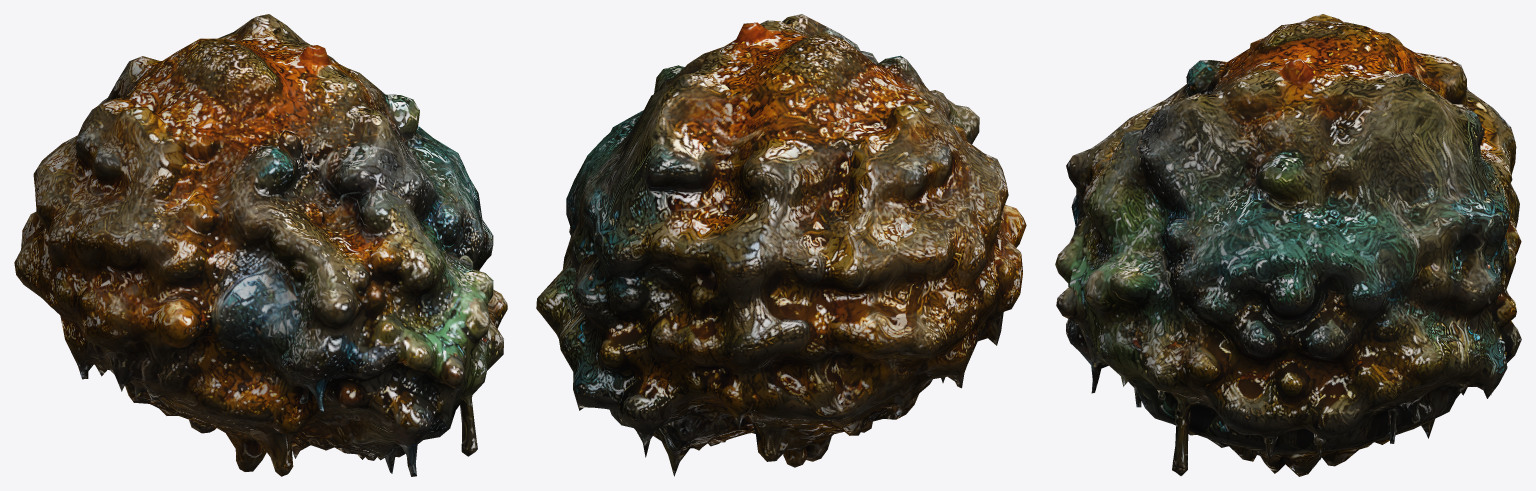
Rendered from sample_heavymetal.fbx.
The picture shows the model from 3 angles, left to right: view 1: azimuth 30°, elevation 25°; view 2: azimuth 150°, elevation 25°; view 3: azimuth 270°, elevation 25°; orthographic projection. The views are drawn at different scales.
Visible parts, largest first — view 1: input; view 2: input; view 3: input.
Boxes of the visible parts, x1,y1,x2,y2 form: input: (14,14,507,476); input: (536,14,1026,476); input: (1055,14,1521,476).
Size of the model in its own units: 96.06 by 95.38 by 99.76.
1 material, 1 textured.
